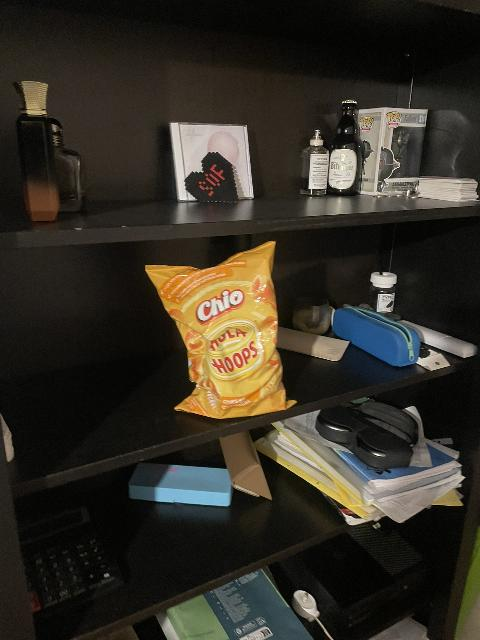Chio Hula Hoops Cheese 70g: (144, 245, 291, 419)
